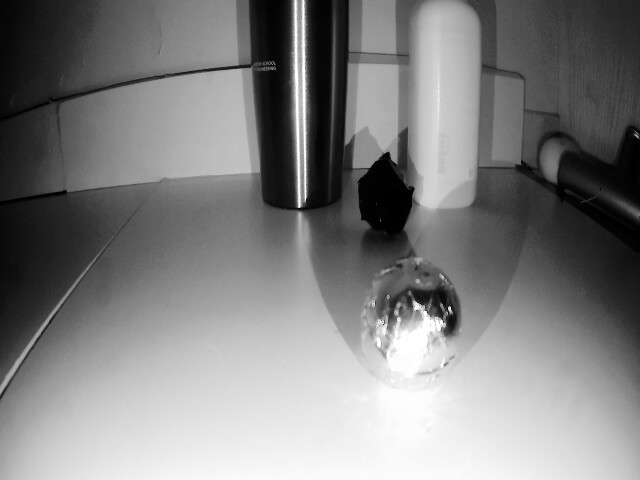black: (362, 262, 460, 391)
silver: (351, 159, 416, 250)
